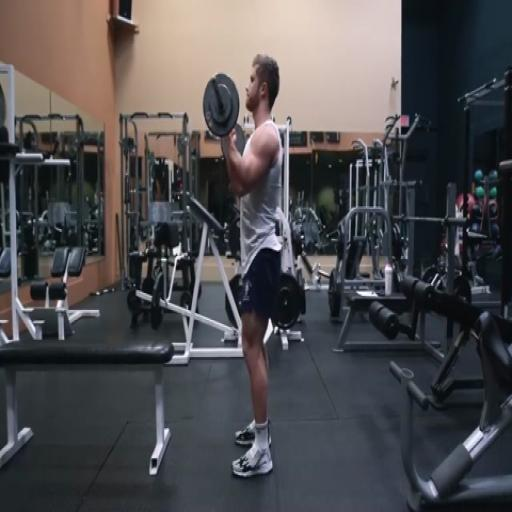exercise: (216, 51, 289, 481)
